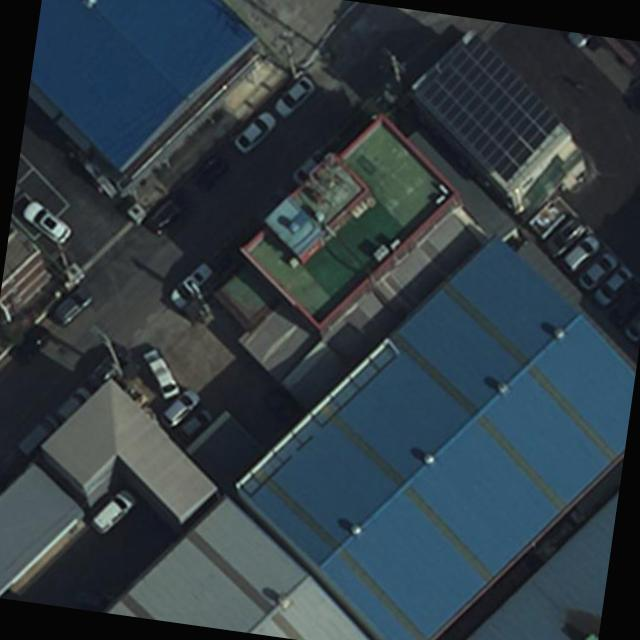solar: (402, 25, 570, 192)
